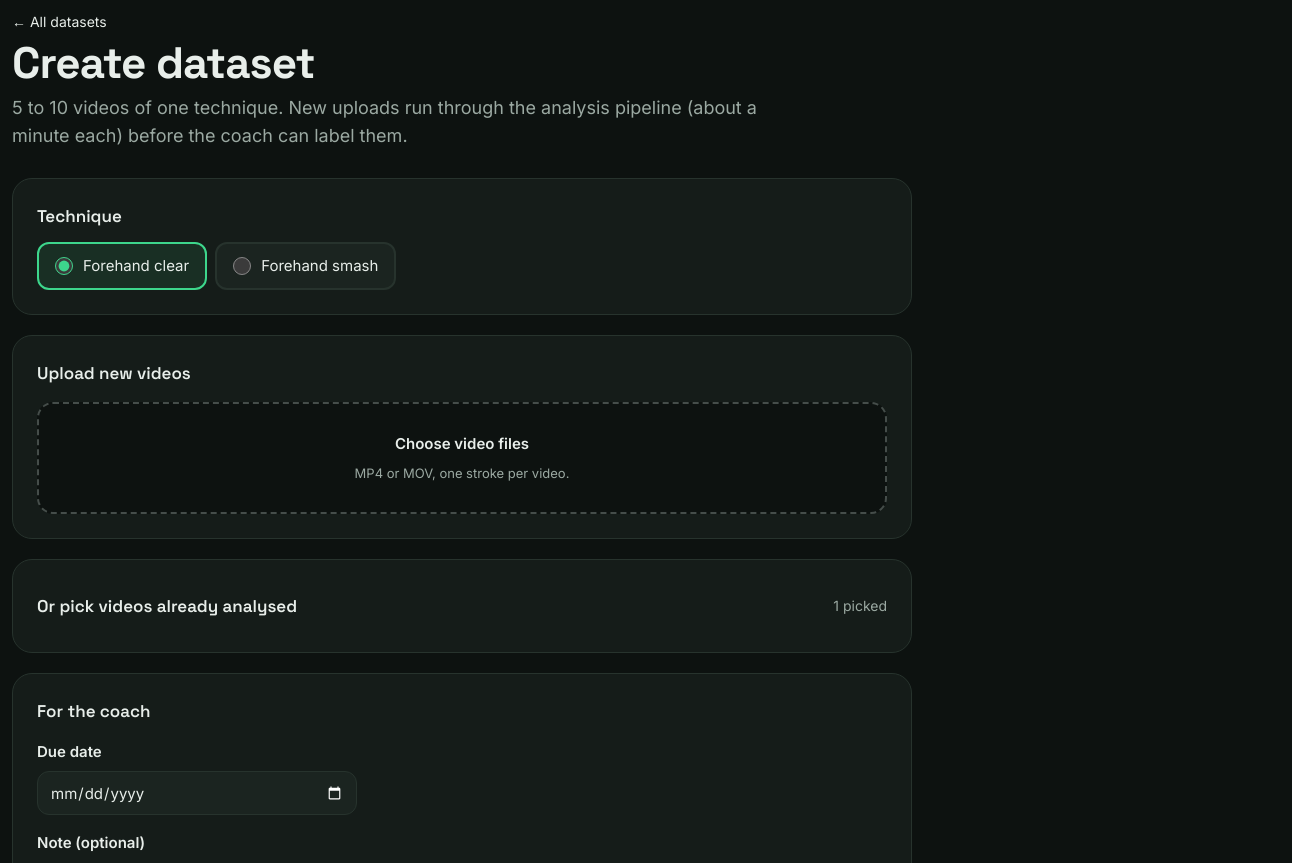
CreateDataset › lists analyses of the chosen technique and drops picks when it changes
The width and height of the screenshot is (1292, 863).
Earlier steps of the test are not shown.
Expected: the text "1 picked" is shown, [833,596,887,616]
Click the radio button labelled "Forehand smash": (242, 266) [233,256,251,274]
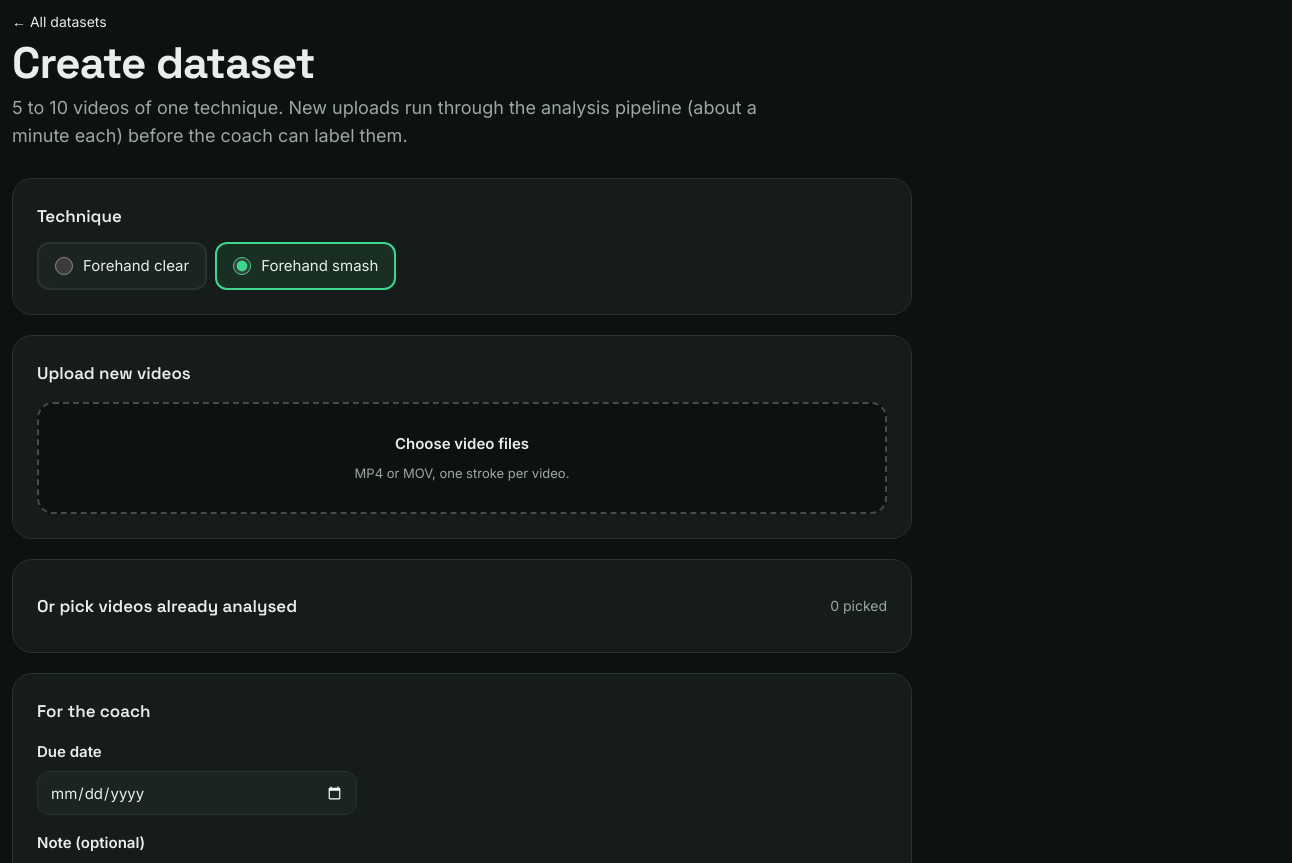
Expected: the text "0 picked" is shown, [830,596,887,616]
